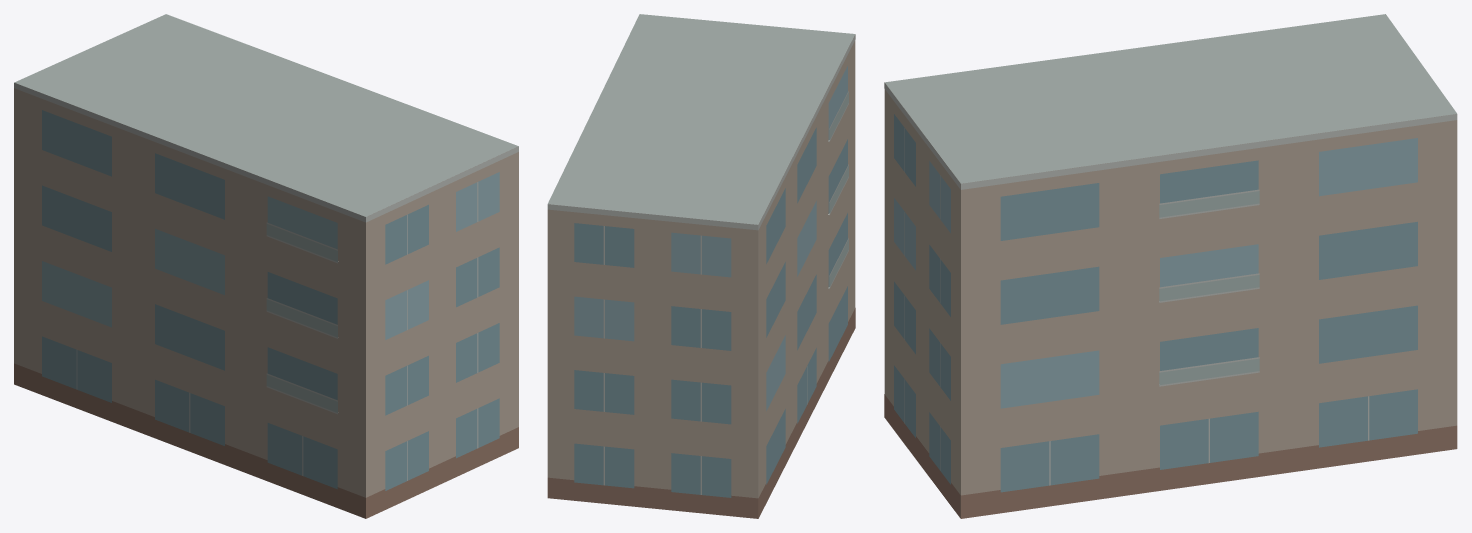
Rendered from survey-upis-32621768.glb.
3 renders of one model, left to right at view 1: azimuth 30°, elevation 25°; view 2: azimuth 150°, elevation 25°; view 3: azimuth 270°, elevation 25°, orthographic. The views are drawn at different scales.
Parts seen in each view (by area): view 1: survey-upis-32621768.tmp; view 2: survey-upis-32621768.tmp; view 3: survey-upis-32621768.tmp.
Boxes of the visible parts, left/top/right/bottom form: survey-upis-32621768.tmp: left=14, top=14, right=518, bottom=518; survey-upis-32621768.tmp: left=547, top=14, right=855, bottom=518; survey-upis-32621768.tmp: left=884, top=14, right=1457, bottom=518.
Bounding box in the file's own units: 14.35 × 13.2 × 20.46.
